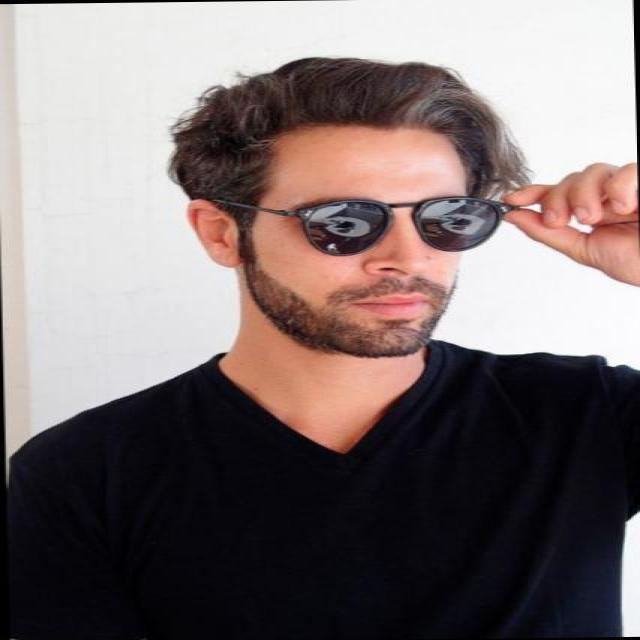glasses: (262, 193, 519, 257)
